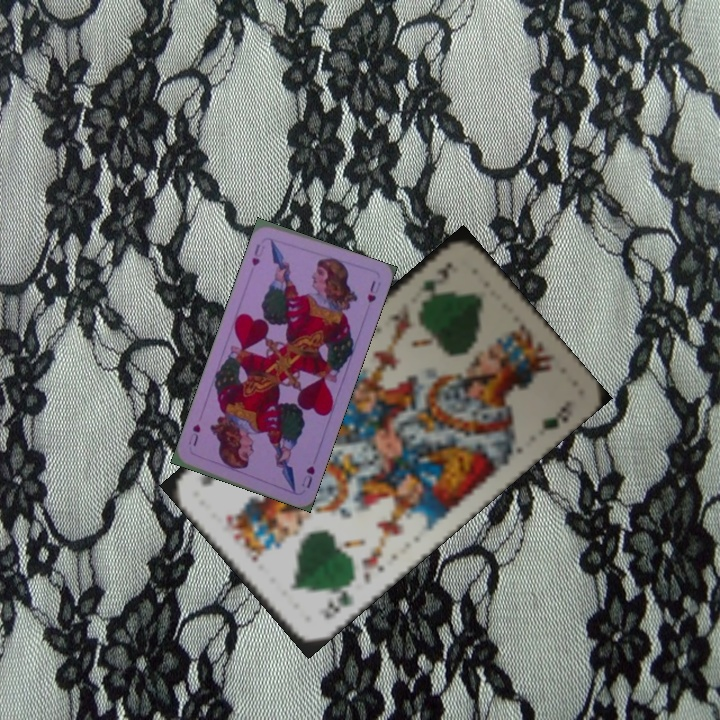GK: (417, 257, 458, 304), (315, 578, 356, 622)
HU: (297, 462, 318, 491), (248, 240, 262, 268)
